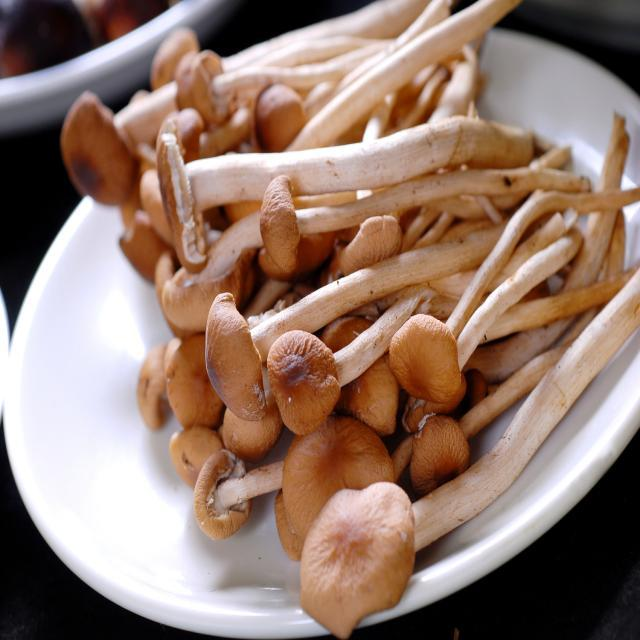Agrocybe aegerita: (62, 2, 640, 632)
